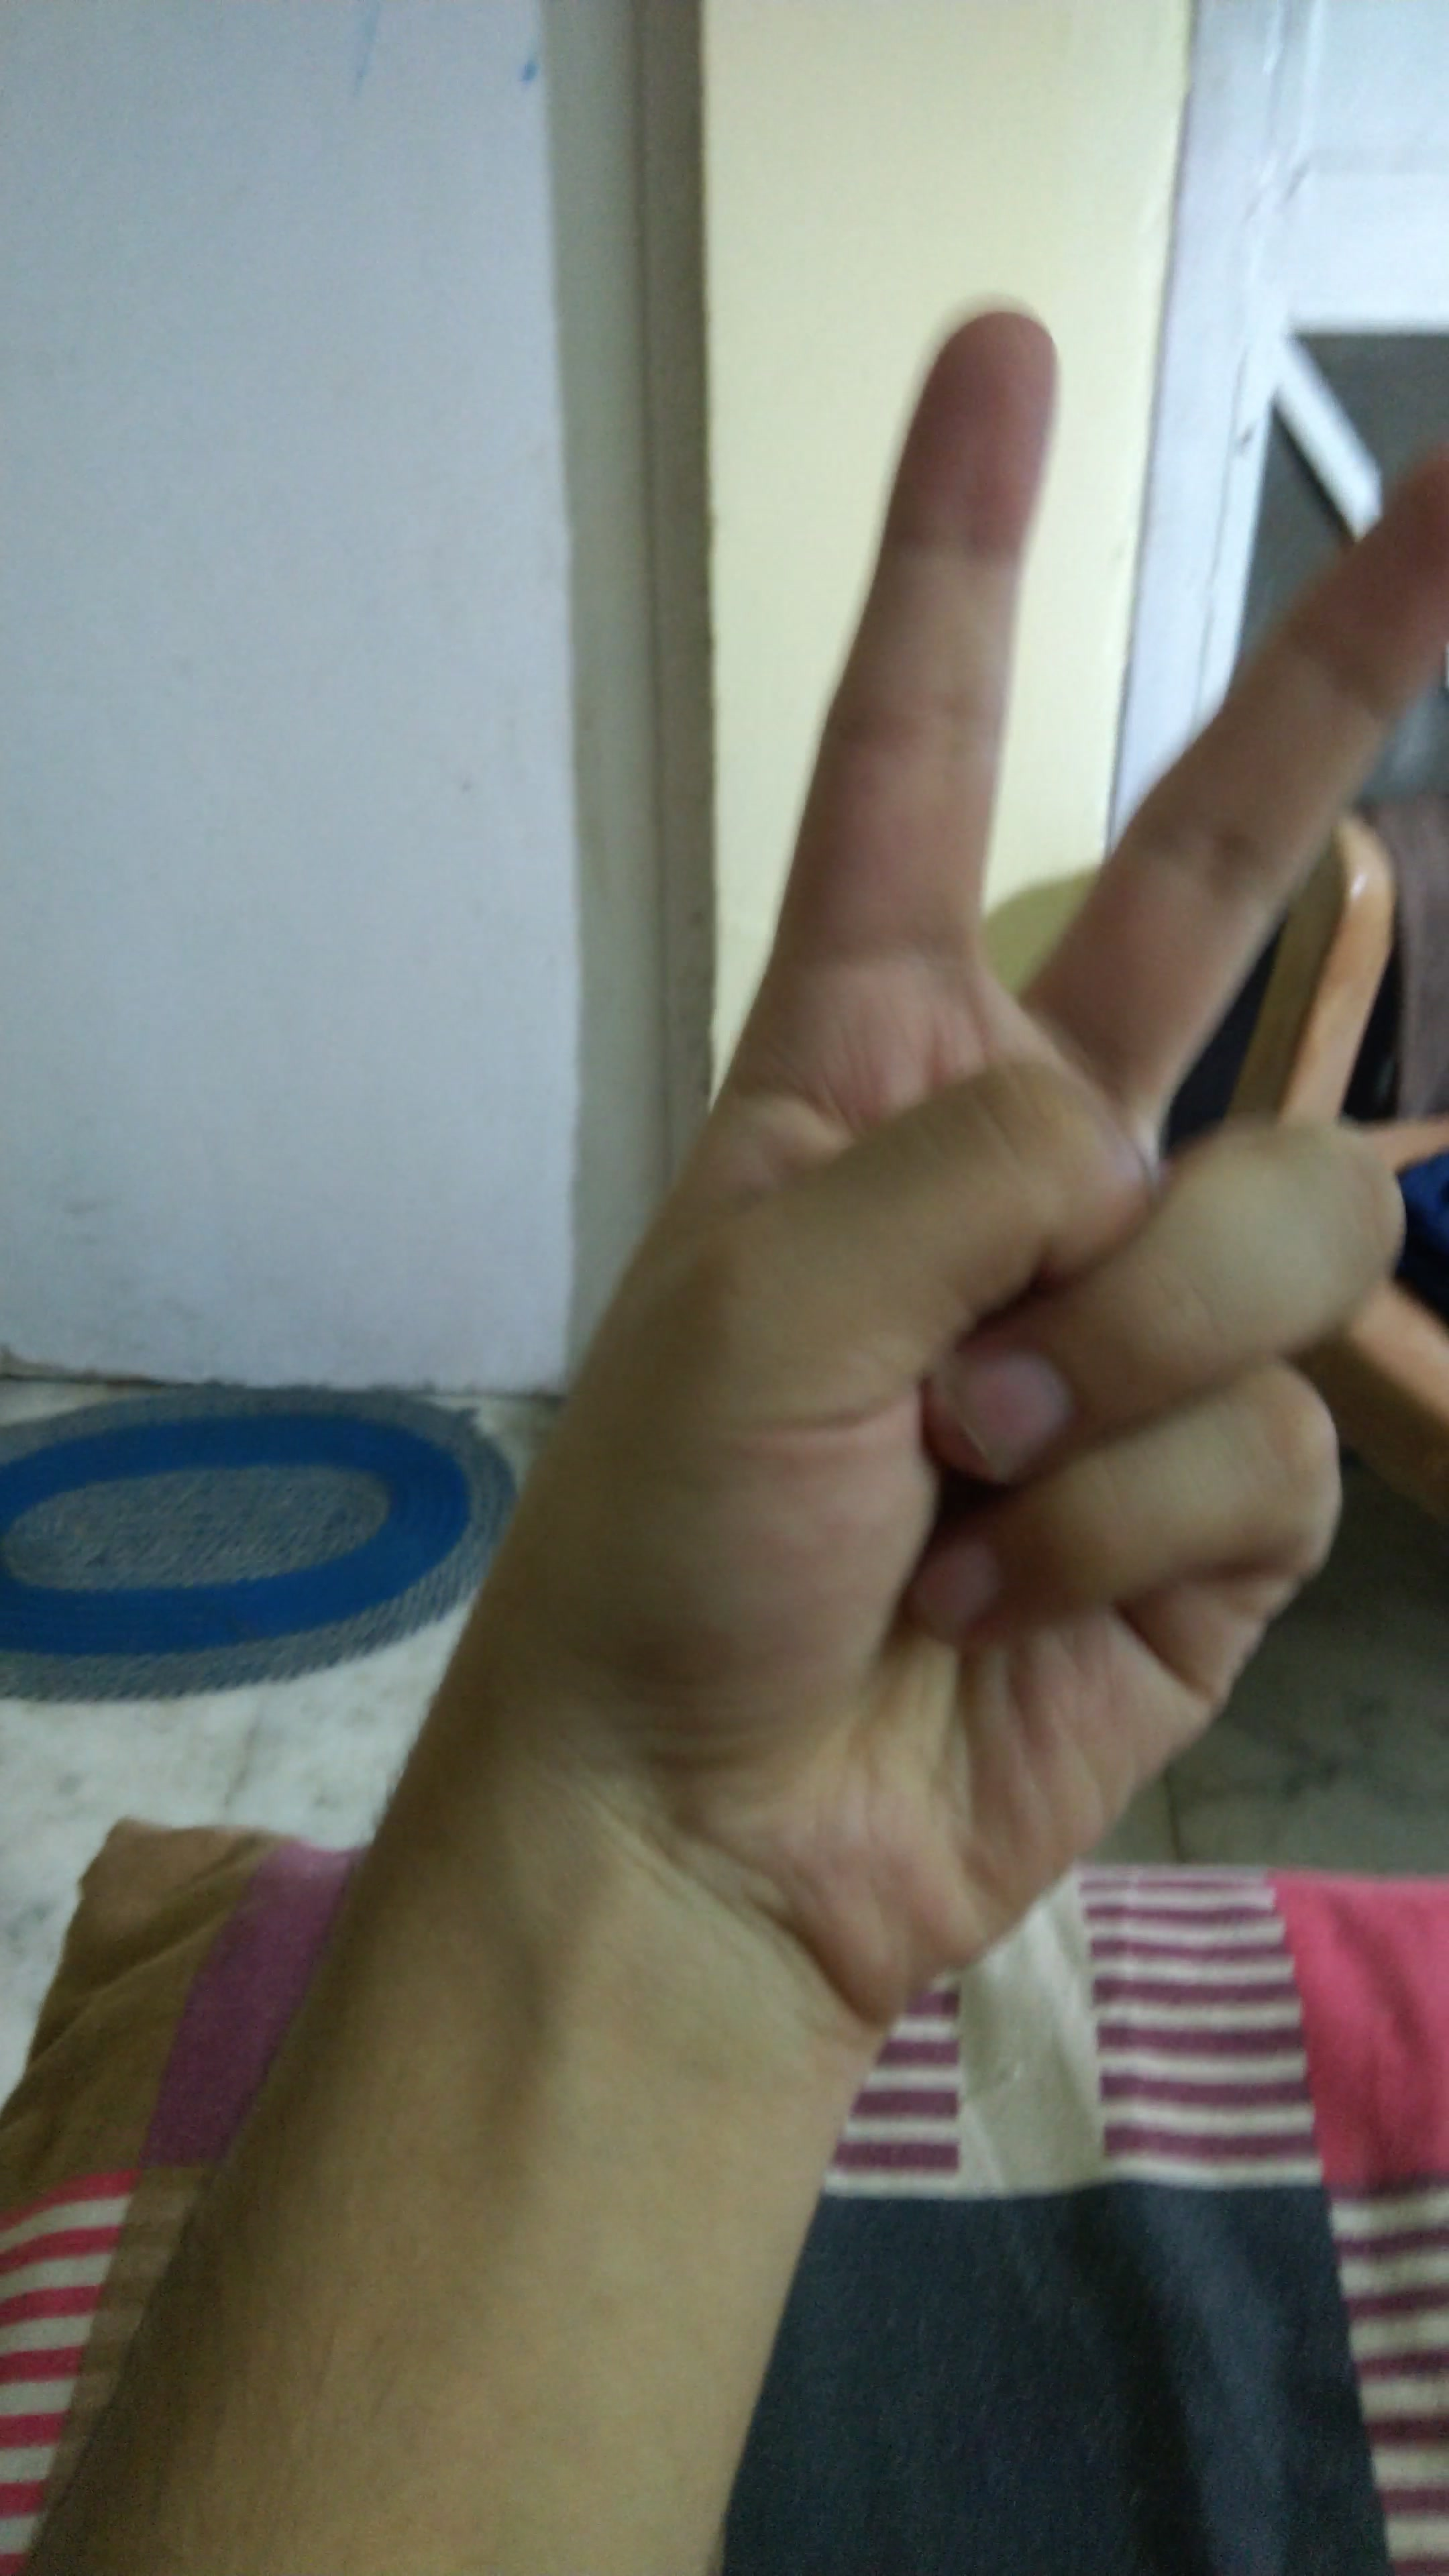hand: (283, 257, 1449, 2020)
